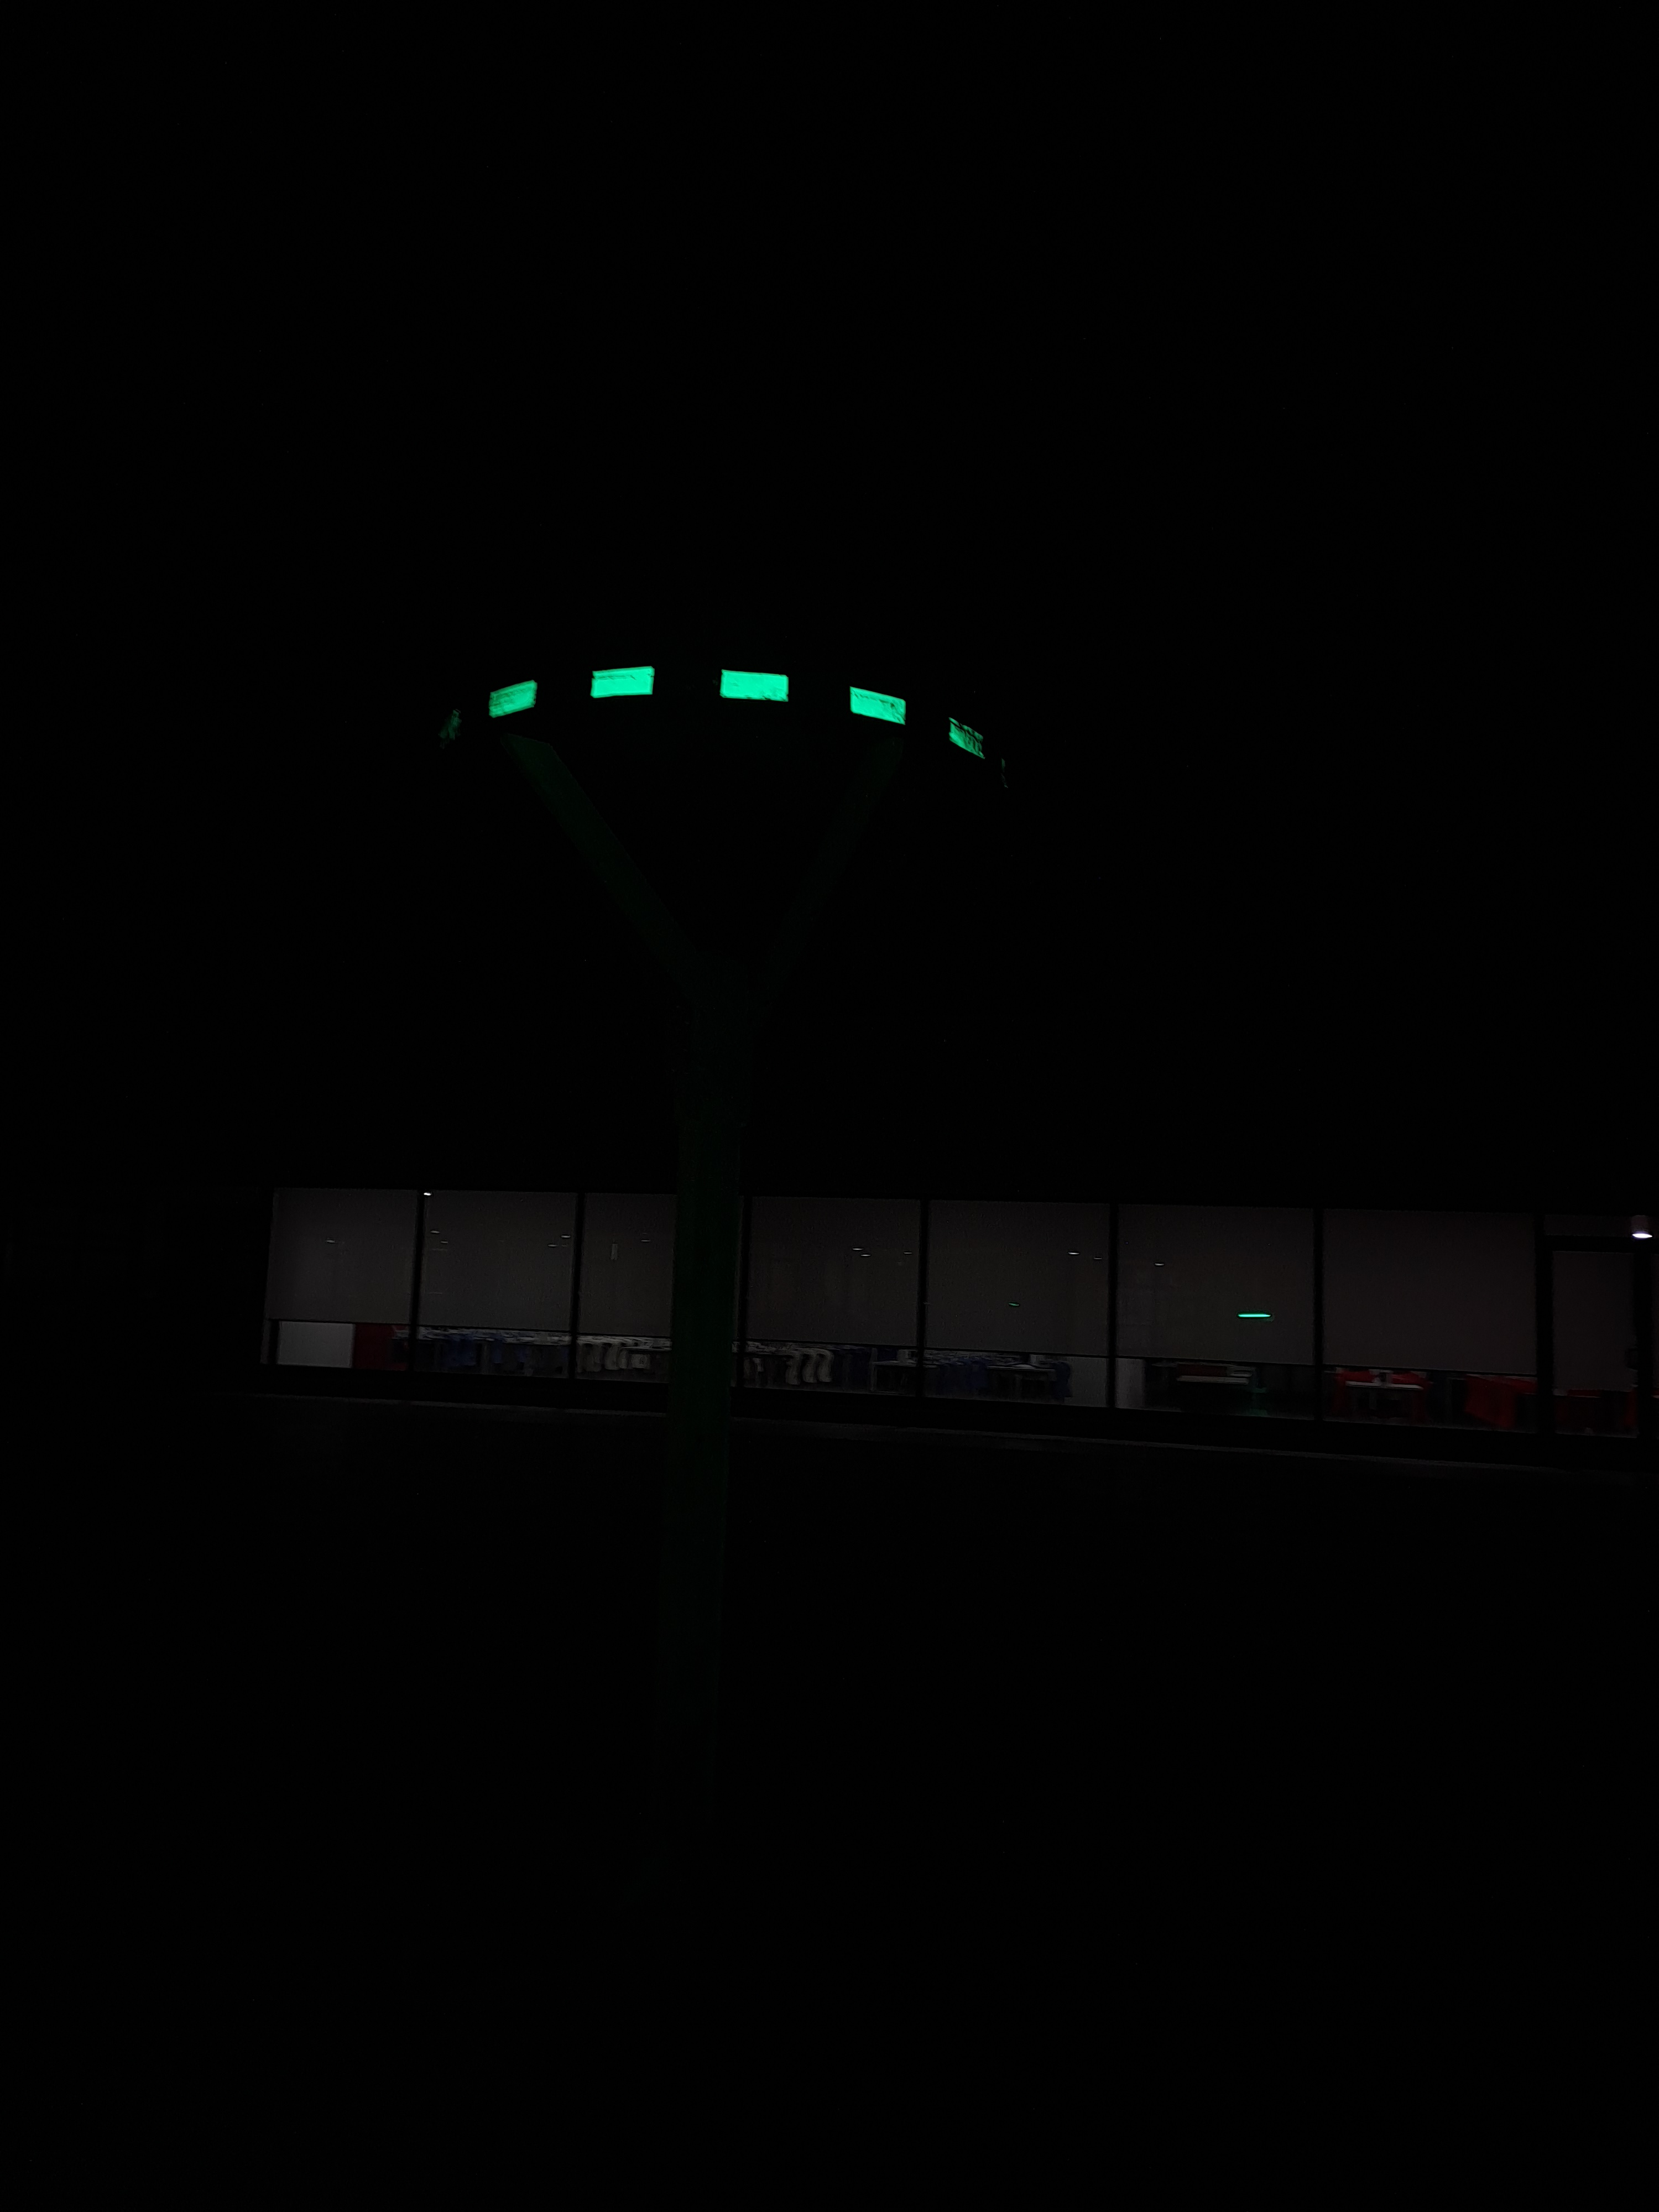hoop: (483, 655, 992, 765)
